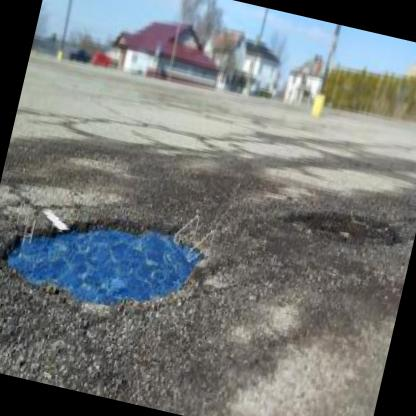pothole: (0, 187, 212, 325), (281, 194, 406, 256)
